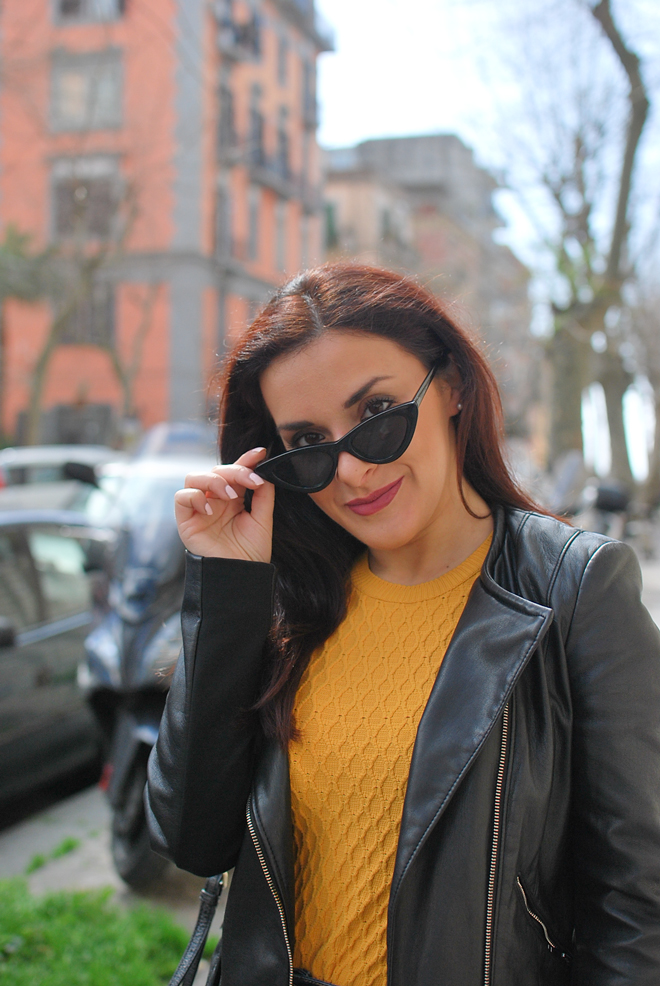sunglasses: (240, 412, 440, 486)
